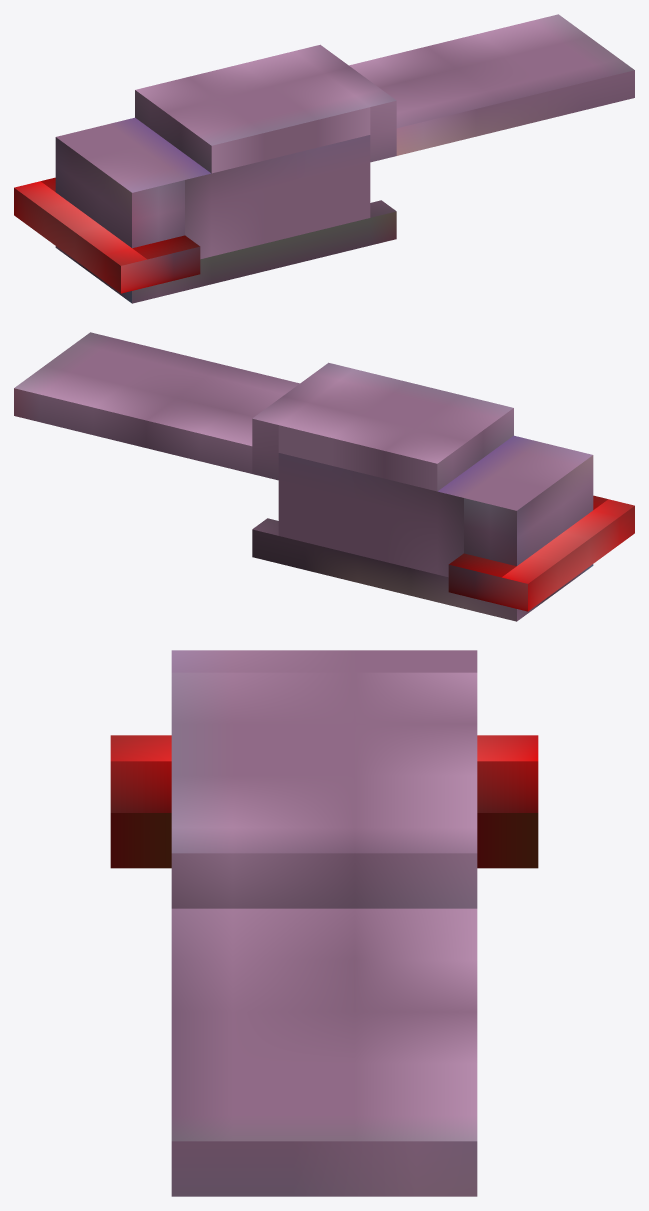
Rendered from Scooter_Small_D_00.fbx.
3 renders of one model, top to bottom at view 1: azimuth 30°, elevation 25°; view 2: azimuth 150°, elevation 25°; view 3: azimuth 270°, elevation 25°, orthographic. The views are drawn at different scales.
Parts seen in each view (by area): view 1: Scooter_Small_D_00; view 2: Scooter_Small_D_00; view 3: Scooter_Small_D_00.
Part boxes in pixels (x1,y1,x2,y2): Scooter_Small_D_00: [14, 14, 634, 303]; Scooter_Small_D_00: [14, 332, 634, 621]; Scooter_Small_D_00: [110, 650, 538, 1196].
Size of the model in its own units: 100 by 25 by 35.
